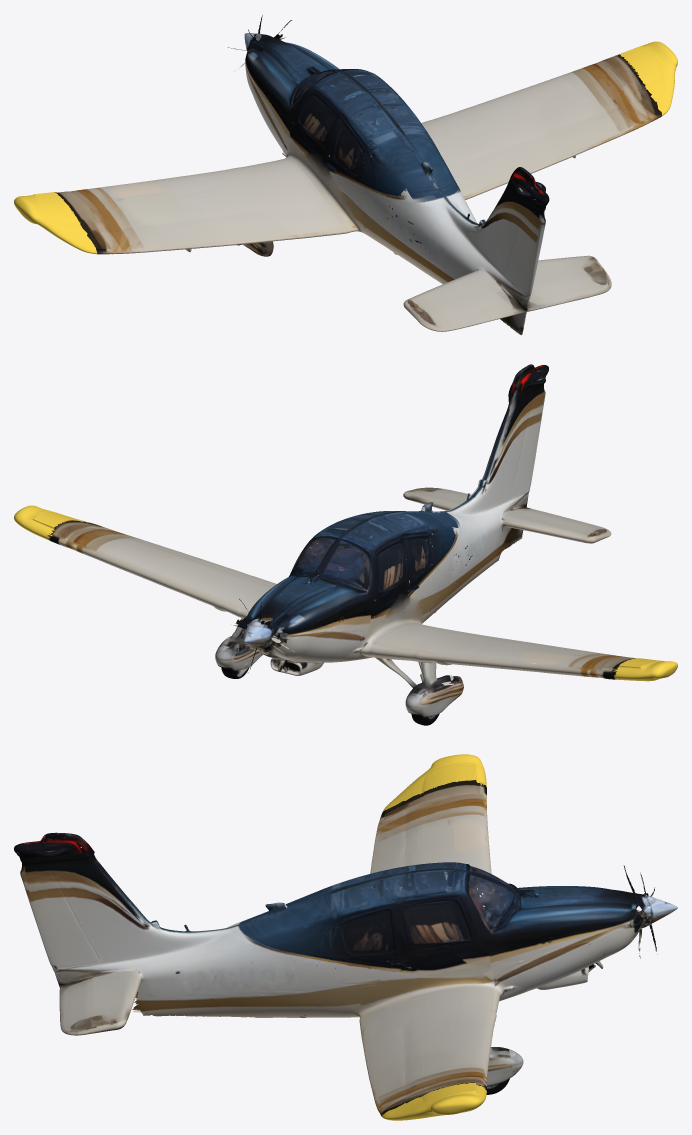
Rendered from mooney-m20m.glb.
The picture shows the model from 3 angles, top to bottom: view 1: azimuth 30°, elevation 25°; view 2: azimuth 150°, elevation 25°; view 3: azimuth 270°, elevation 25°; orthographic projection. The views are drawn at different scales.
Visible parts, largest first — view 1: mooney-m20m-airframe; view 2: mooney-m20m-airframe; view 3: mooney-m20m-airframe.
Boxes of the visible parts, box(x1,y1,x2,y2) form: mooney-m20m-airframe: box(14, 15, 677, 334); mooney-m20m-airframe: box(14, 364, 677, 725); mooney-m20m-airframe: box(14, 754, 677, 1120).
Size of the model in its own units: 11 by 3.08 by 8.86.
Materials: 2 (1 with a texture image).
